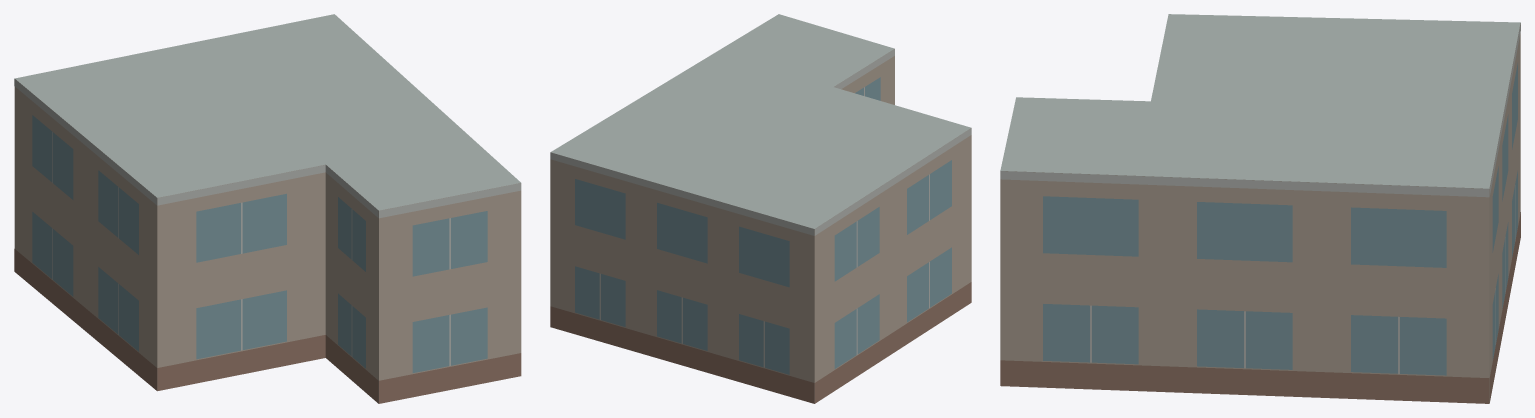
File: survey-upis-32768217.glb
3 views of the same model, side by side, from view 1: azimuth 30°, elevation 25°; view 2: azimuth 150°, elevation 25°; view 3: azimuth 270°, elevation 25° (orthographic). The views are drawn at different scales.
Visible parts, largest first — view 1: survey-upis-32768217.tmp; view 2: survey-upis-32768217.tmp; view 3: survey-upis-32768217.tmp.
Part boxes in pixels (x1,y1,x2,y2): survey-upis-32768217.tmp: (14, 14, 521, 403); survey-upis-32768217.tmp: (550, 14, 971, 403); survey-upis-32768217.tmp: (1000, 14, 1520, 403).
Bounding box in the file's own units: 10.63 × 6.1 × 13.38.
